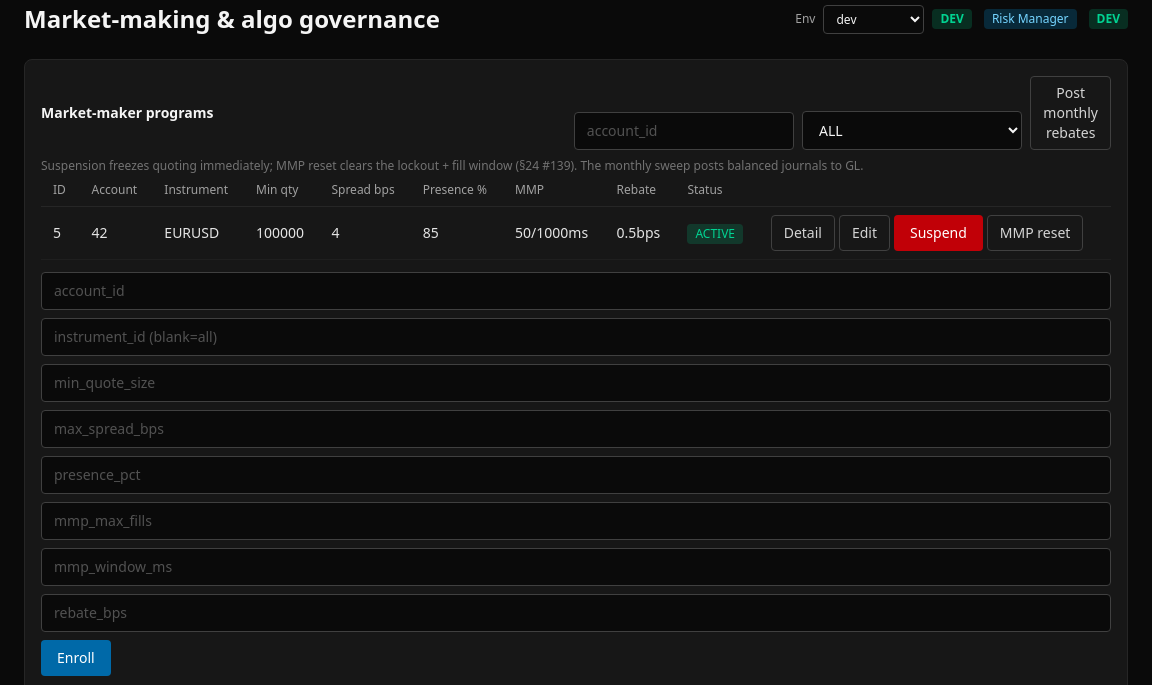
Test: MarketMakingPage › suspends an ACTIVE program and resets its MMP lockout
Click the button "Suspend" at (938, 233), box left=894, top=215, right=983, bottom=251
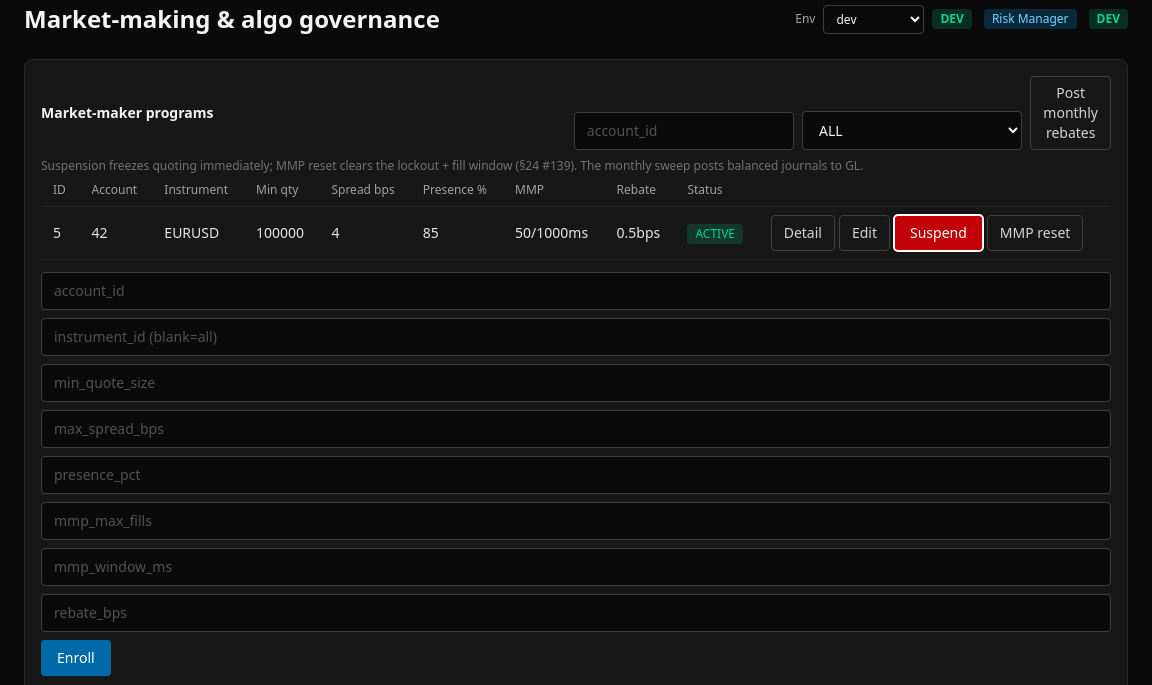
Click the button "MMP reset" at (1035, 233), box left=987, top=215, right=1083, bottom=251
(page scrolled)
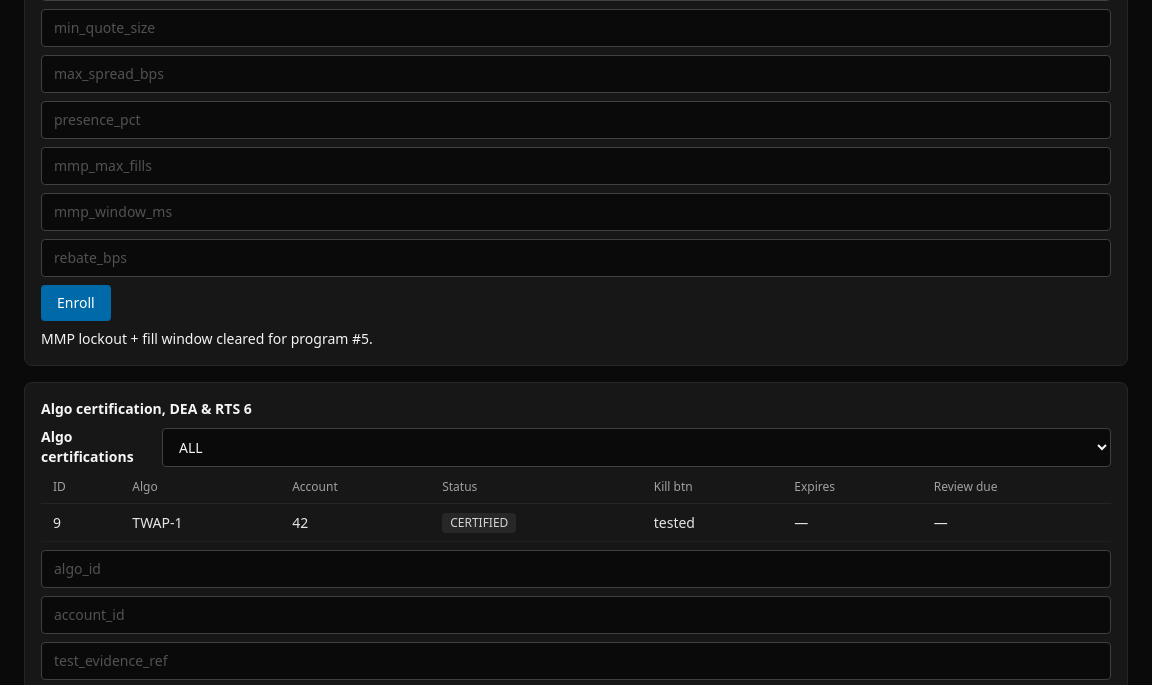
Expected: the text "MMP lockout + fill window cleared for program #5." is shown, left=41, top=329, right=373, bottom=348
